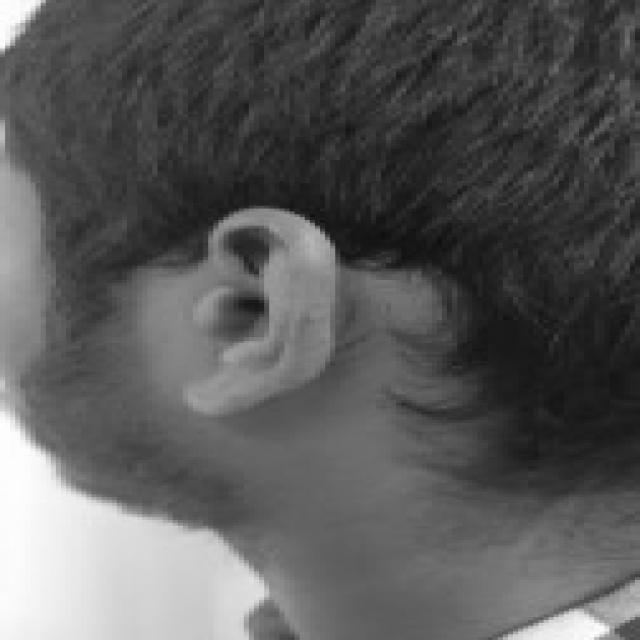ear: (178, 211, 335, 411)
